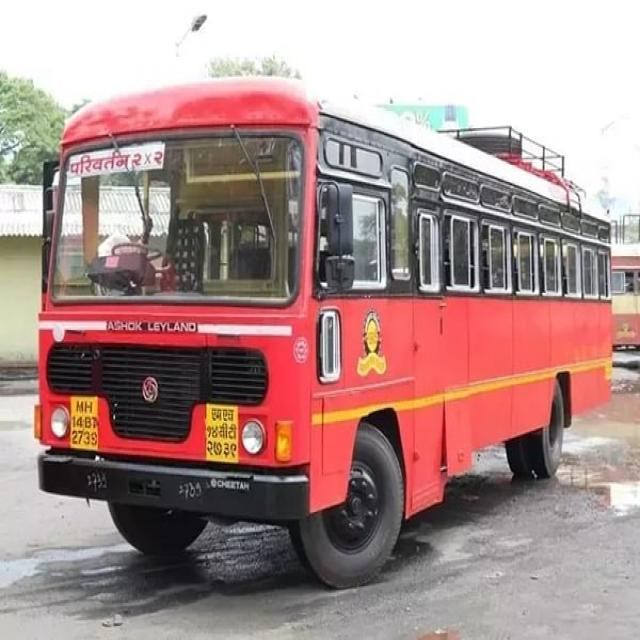BUS: (26, 54, 522, 565)
